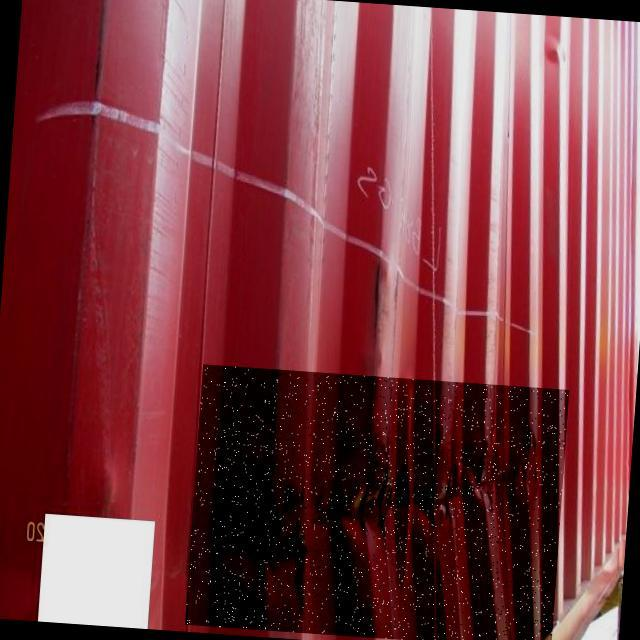Dent: (184, 364, 568, 640)
